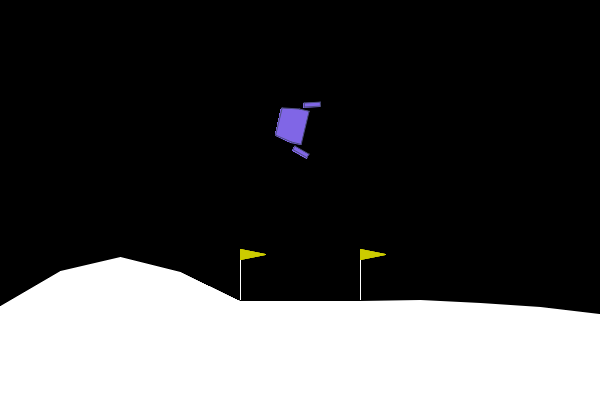lander: (269, 92, 322, 160)
